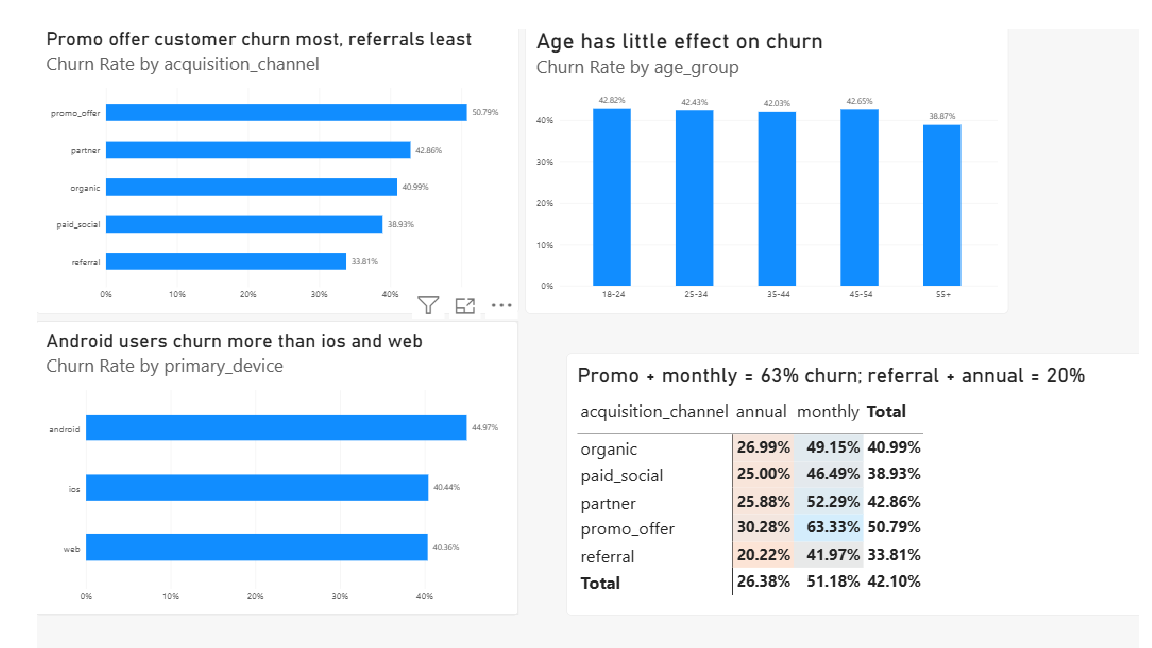

The dashboard page shown, as its layout file describes it:
{"tool":"powerbi","page":{"name":"segments","canvas":[1920,1080],"ordinal":1},"visuals":[{"type":"clusteredBarChart","title":"Promo offer customer churn most, referrals least","fields":{"Category":["Customers.acquisition_channel"],"Y":["Customers.Churn Rate"]},"box":[10.3,0,749.2,475.5],"z":0},{"type":"clusteredBarChart","title":"Android users churn more than ios and web","fields":{"Category":["Customers.primary_device"],"Y":["Customers.Churn Rate"]},"box":[10,485,749,475],"z":1},{"type":"clusteredColumnChart","title":"Age has little effect on churn","fields":{"Category":["Customers.age_group"],"Y":["Customers.Churn Rate"]},"box":[769,0,749,475],"z":2},{"type":"pivotTable","title":"Promo + monthly = 63% churn; referral + annual = 20%","fields":{"Columns":["Customers.plan_type"],"Rows":["Customers.acquisition_channel"],"Values":["Customers.Churn Rate"]},"box":[833.6,539.3,913.9,422],"z":3}]}

Visuals, with their boxes in screenshot pixels (x1, y1, x2, y2), scaled from the page's 1920x1080 canvas onto the 1152x648 screenshot:
"Promo offer customer churn most, referrals least" clusteredBarChart: (x1=6, y1=0, x2=456, y2=285)
"Android users churn more than ios and web" clusteredBarChart: (x1=6, y1=291, x2=455, y2=576)
"Age has little effect on churn" clusteredColumnChart: (x1=461, y1=0, x2=911, y2=285)
"Promo + monthly = 63% churn; referral + annual = 20%" pivotTable: (x1=500, y1=324, x2=1048, y2=577)
